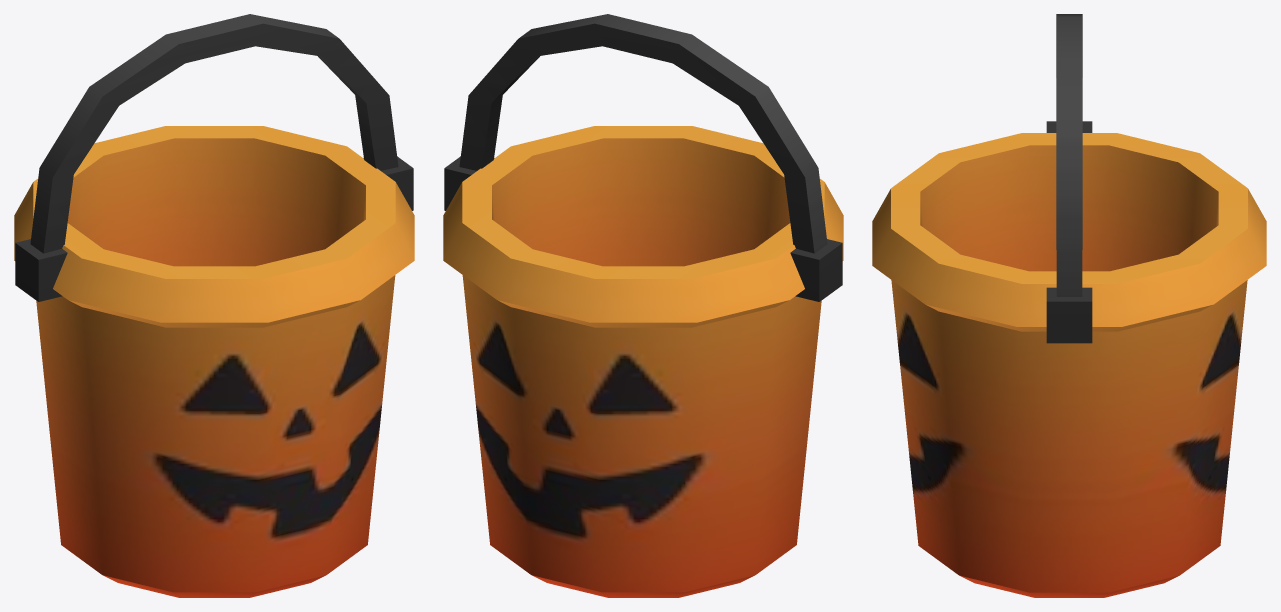
File: candy_bucket_a.glb
3 views of the same model, side by side, from view 1: azimuth 30°, elevation 25°; view 2: azimuth 150°, elevation 25°; view 3: azimuth 270°, elevation 25° (orthographic).
Visible parts, largest first — view 1: Cylinder.254, candy_bucket_A_handle; view 2: Cylinder.254, candy_bucket_A_handle; view 3: Cylinder.254, candy_bucket_A_handle.
Boxes of the visible parts, box(x1,y1,x2,y2) form: Cylinder.254: box(14, 126, 414, 597); candy_bucket_A_handle: box(15, 14, 413, 301); Cylinder.254: box(443, 126, 843, 597); candy_bucket_A_handle: box(444, 14, 842, 301); Cylinder.254: box(872, 133, 1266, 597); candy_bucket_A_handle: box(1046, 14, 1092, 343).
Bounding box in the file's own units: 0.8966 × 1.17 × 0.8286.
1 material, 1 textured.
